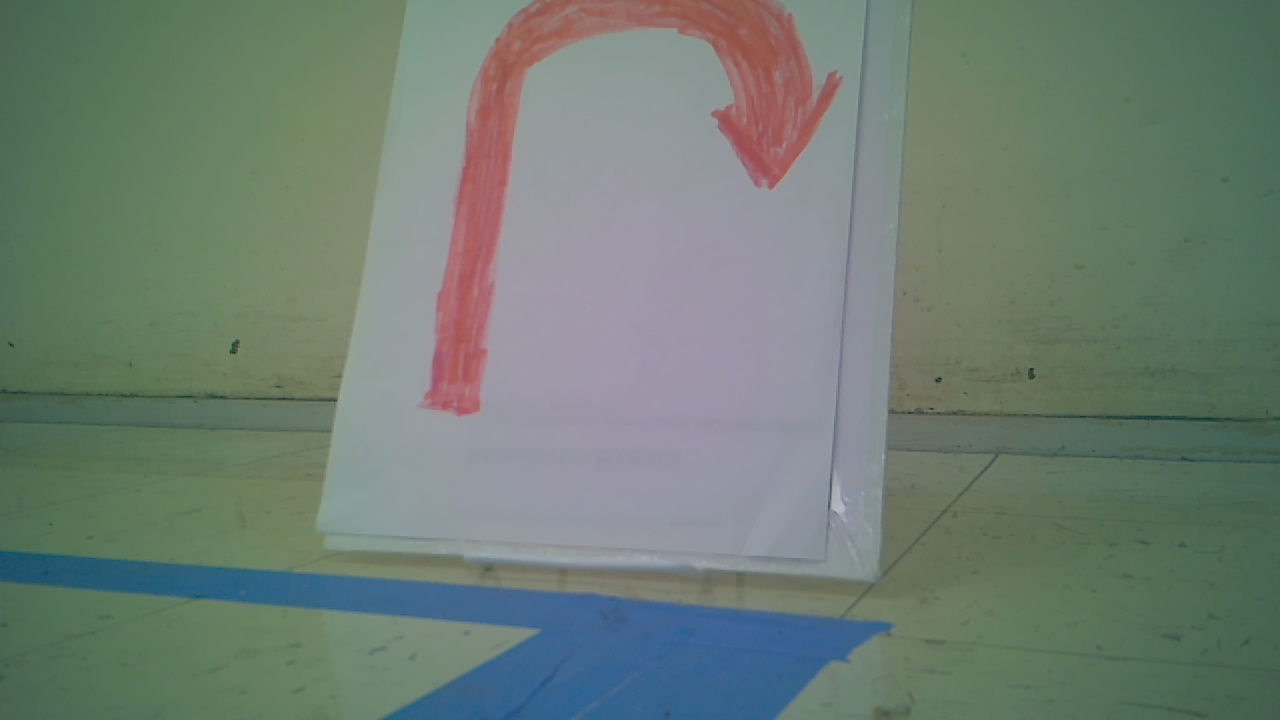uturn: (429, 0, 839, 414)
